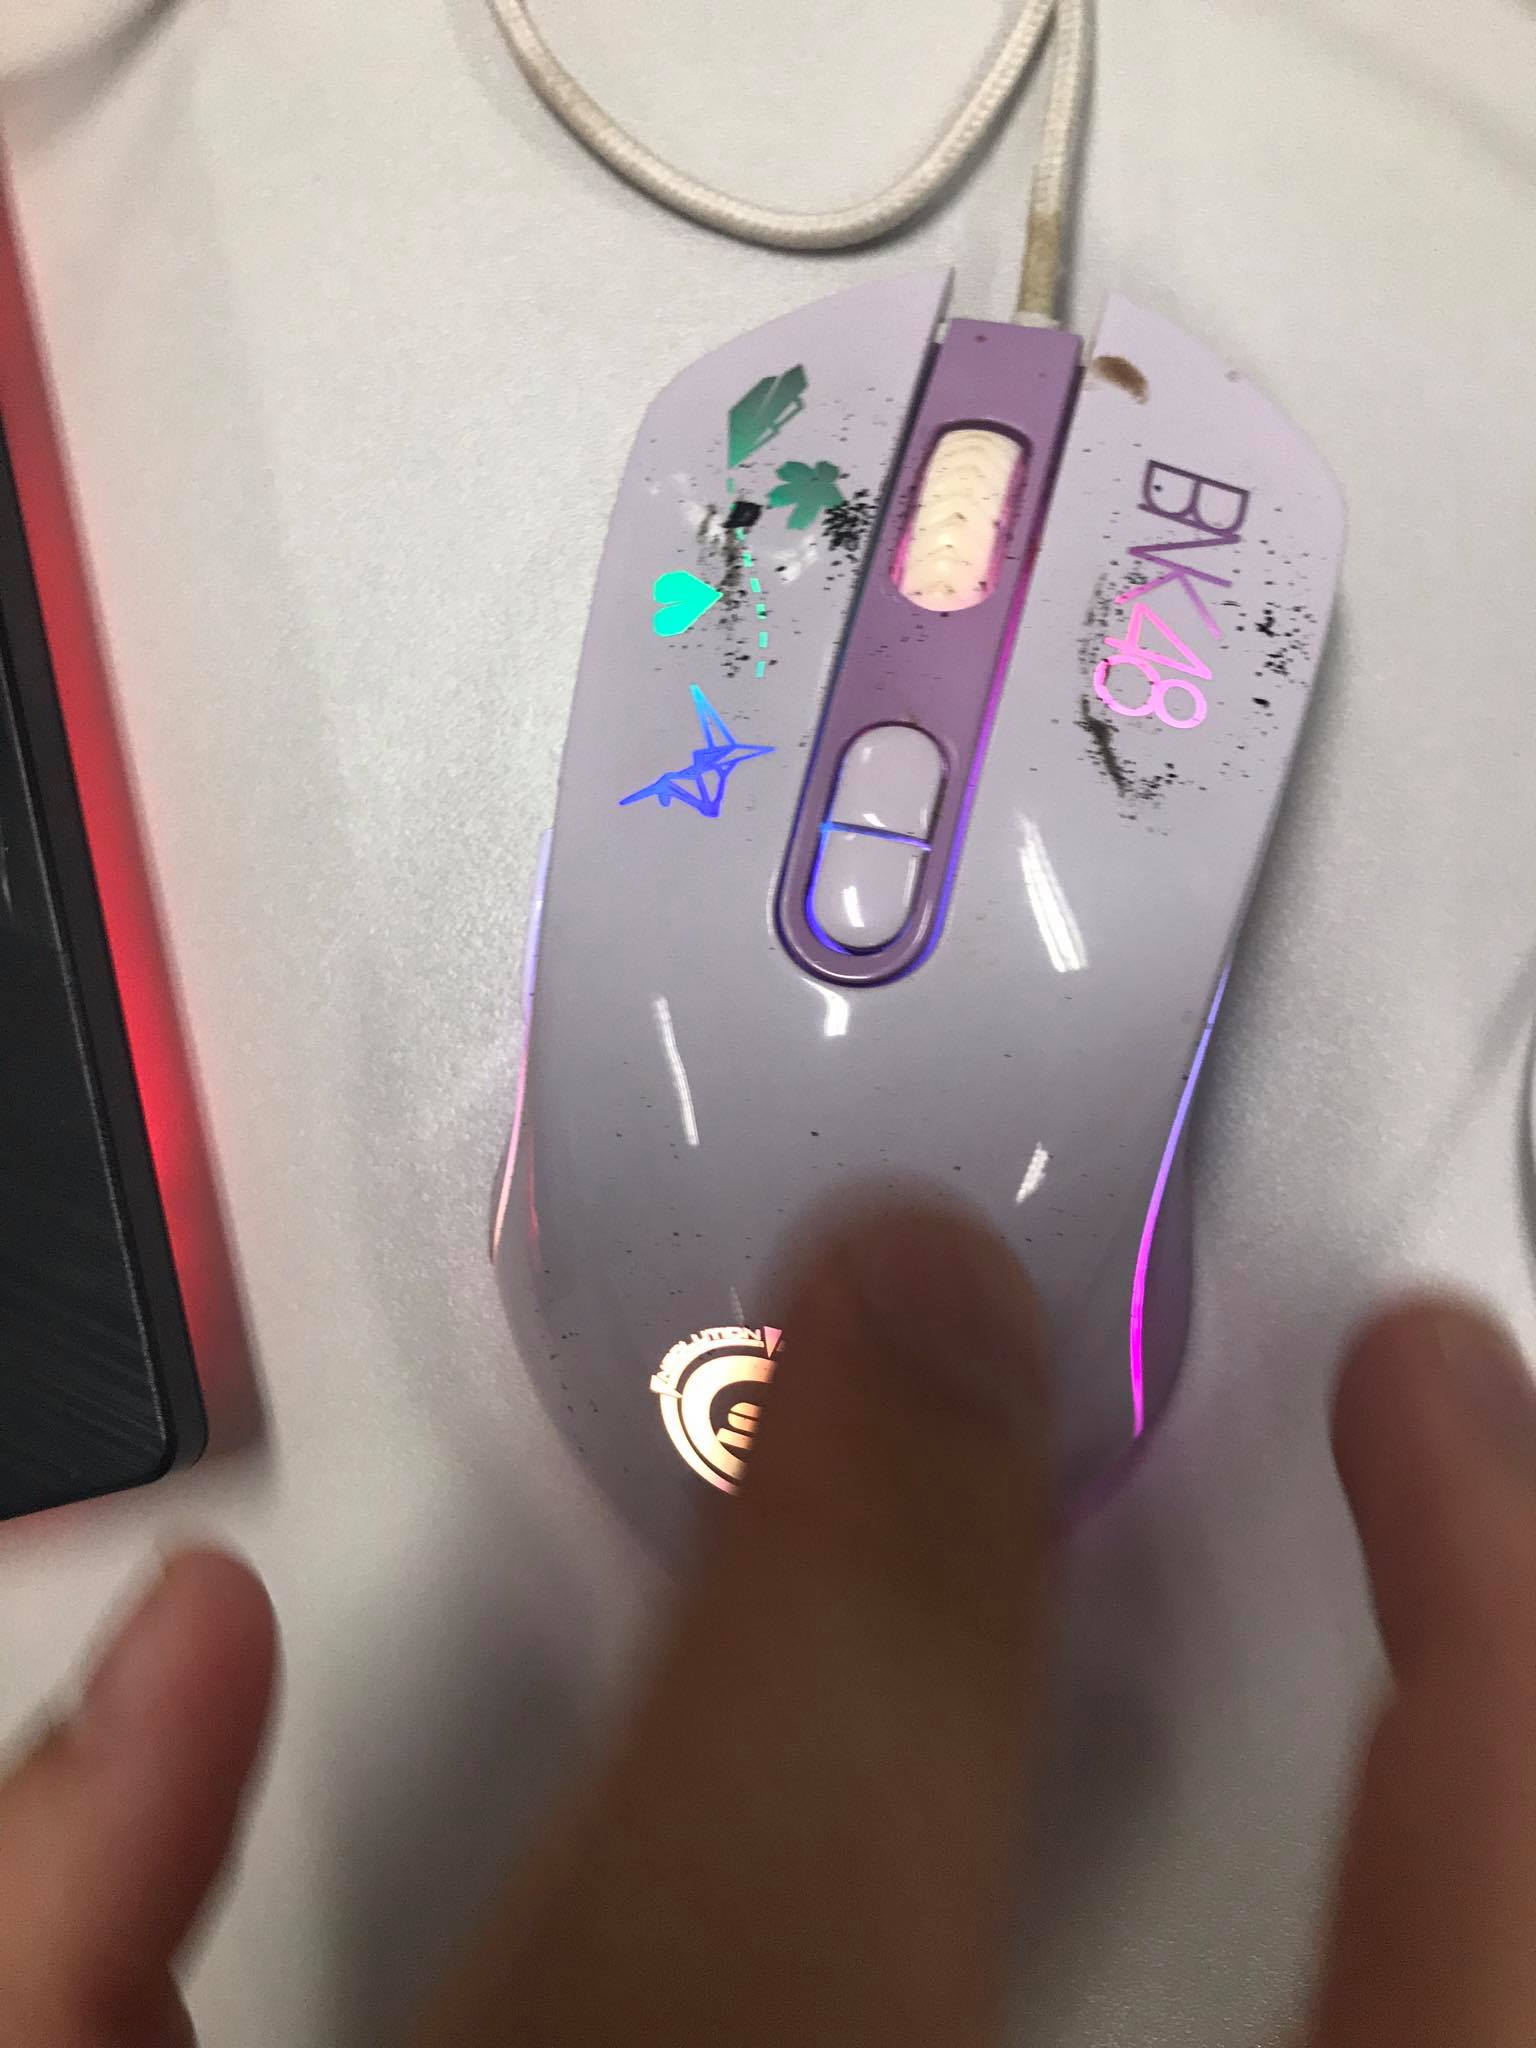mouse: (510, 282, 1338, 1563)
